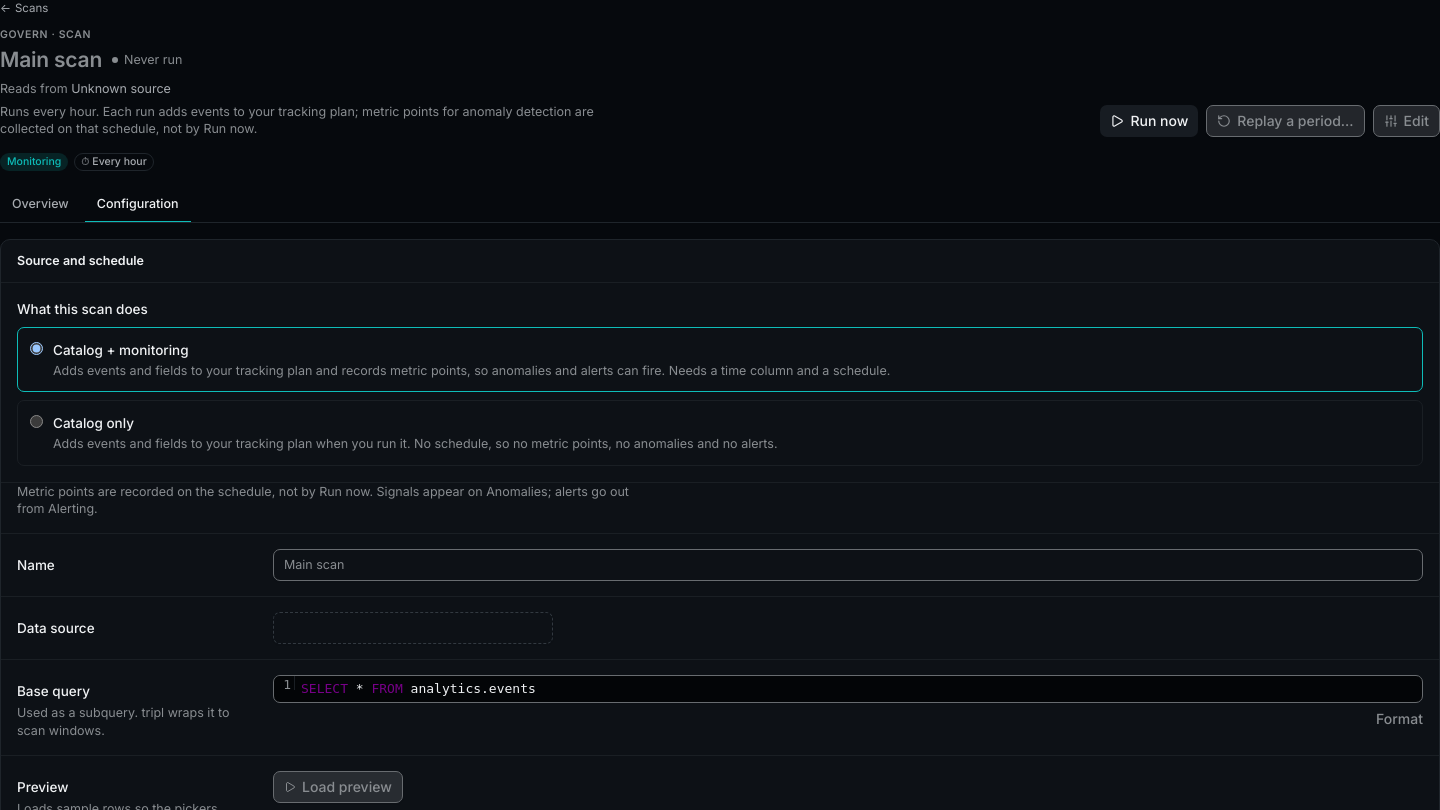
it: ScanConfigDetail — unsaved configuration edits (DATA-12) › discards edits back to the saved configuration (#247 DA-26)
Replace the text in the field labelled "Name" with "Half-typed" at (848, 565), box 273,549 -> 1423,581
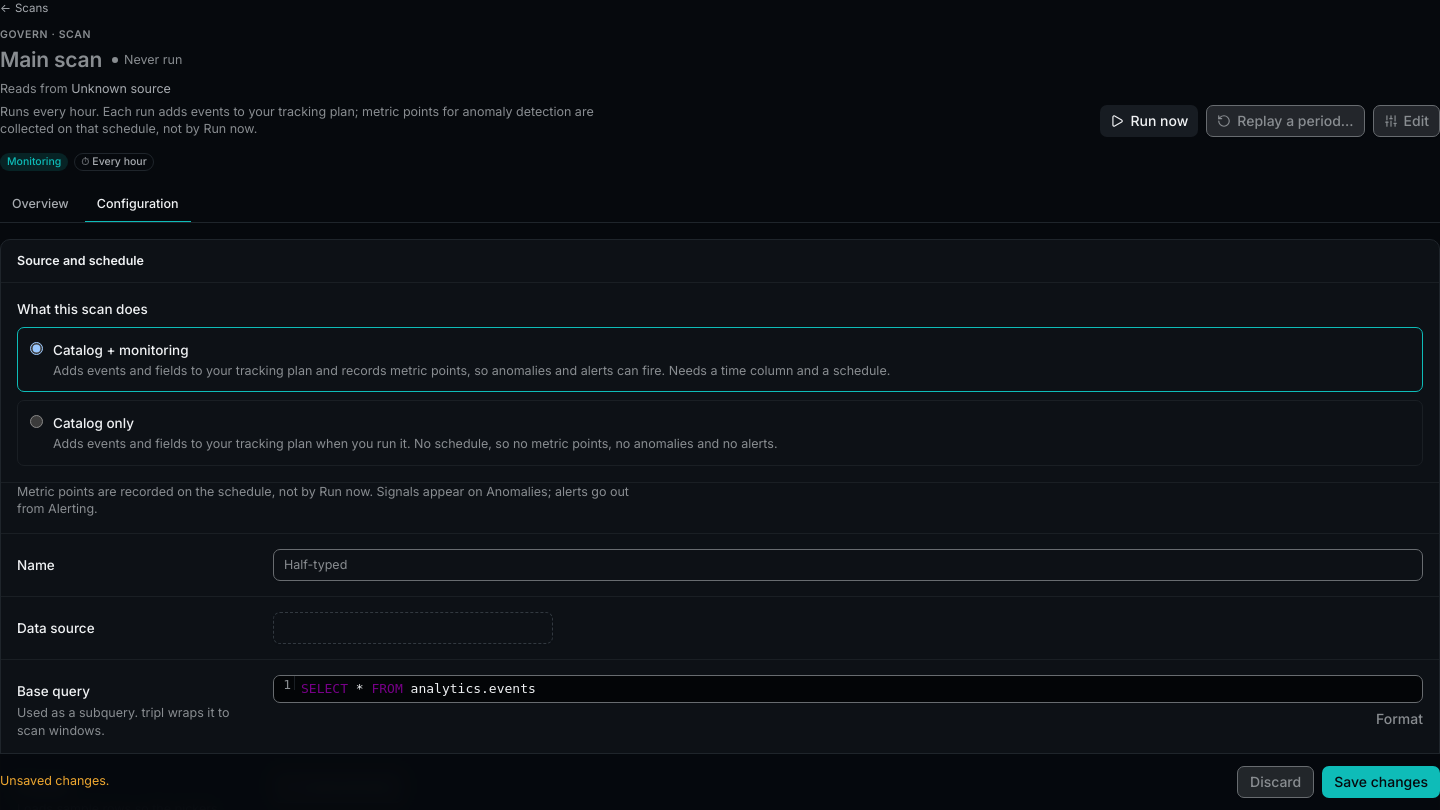
Result: the text "Unsaved changes." is shown at 0,774 -> 110,789
Click the button "Discard" at (1276, 782), box 1237,766 -> 1314,798
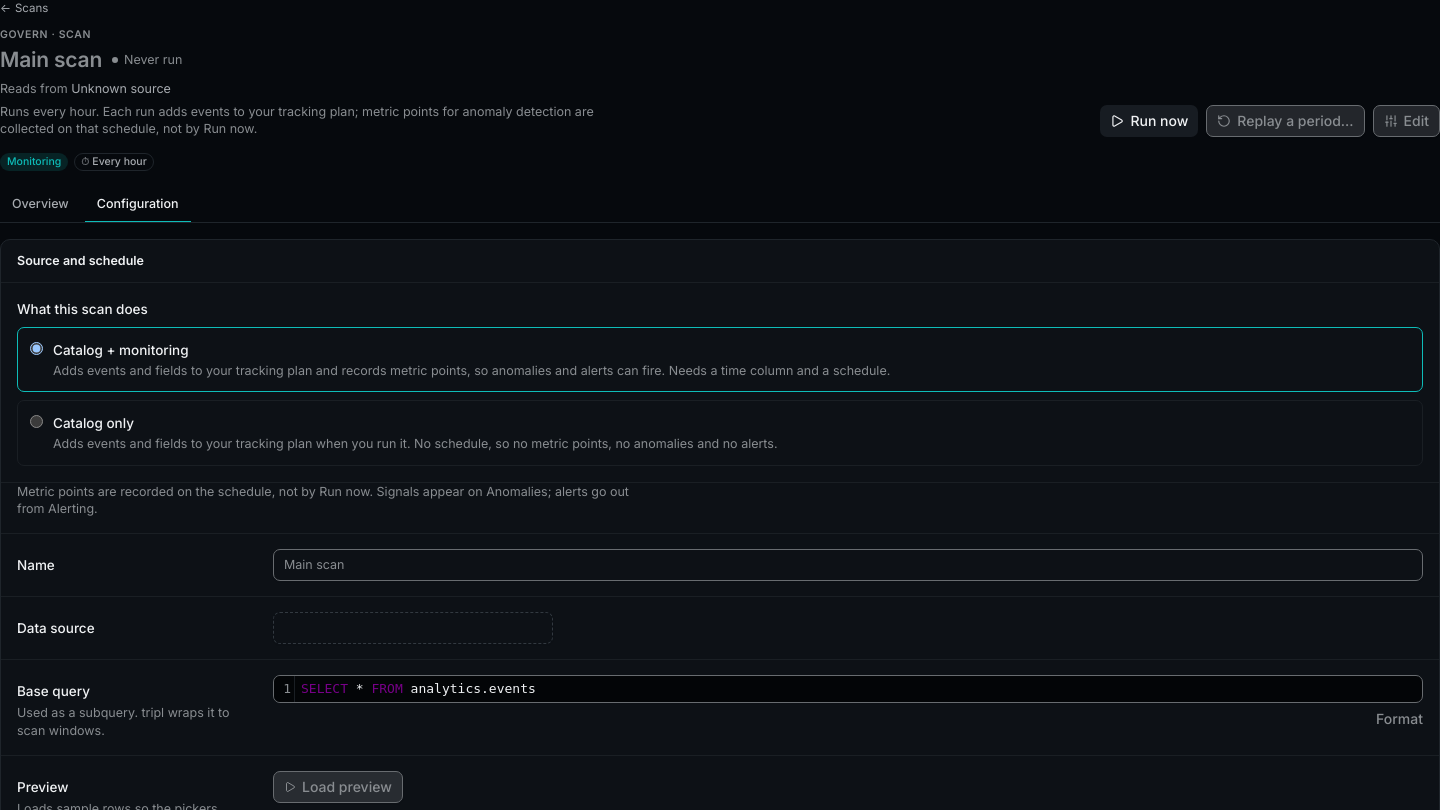
Result: the field labelled "Name" holds "Main scan" at 273,549 -> 1423,581
Result: the text "Unsaved changes." is gone
Result: the button "Save changes" is gone
